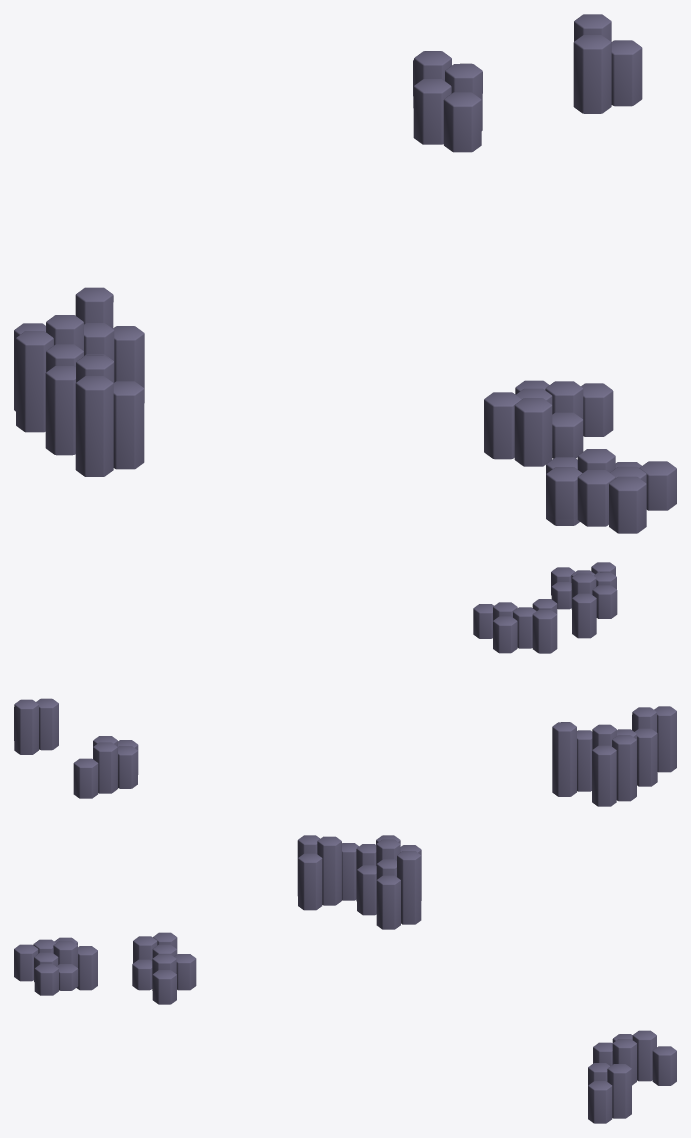
File: sceneryVisual.glb
3 renders of one model, top to bottom at view 1: azimuth 30°, elevation 25°; view 2: azimuth 150°, elevation 25°; view 3: azimuth 270°, elevation 25°, orthographic. The views are drawn at different scales.
Parts seen in each view (by area): view 1: Cylinder.022; view 2: Cylinder.022; view 3: Cylinder.022.
Part boxes in pixels (x1,y1,x2,y2): Cylinder.022: [14, 14, 676, 533]; Cylinder.022: [14, 562, 676, 806]; Cylinder.022: [14, 835, 676, 1123].
Bounding box in the file's own units: 35 × 4.32 × 39.8.
